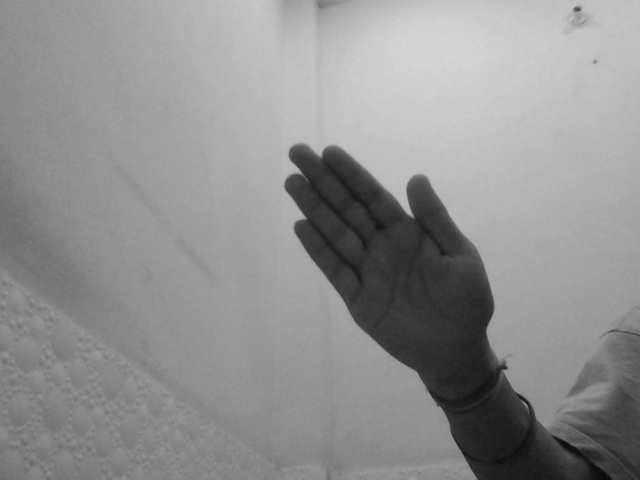Hello: (281, 139, 500, 361)
